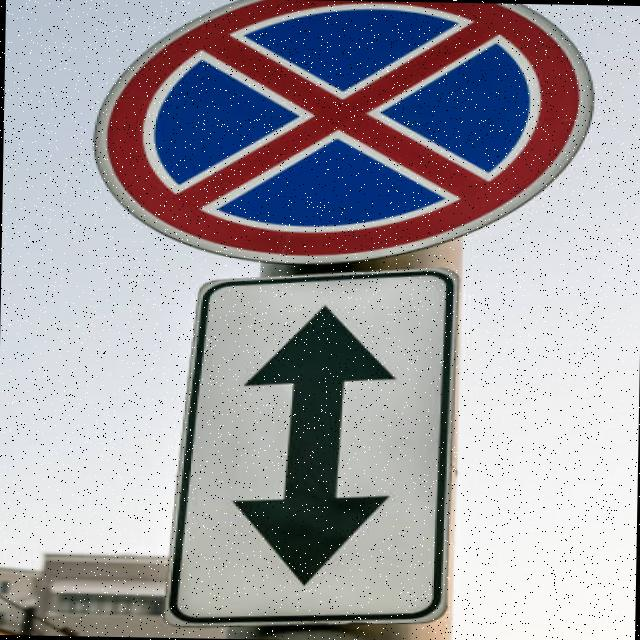no_parking: (70, 0, 613, 278)
